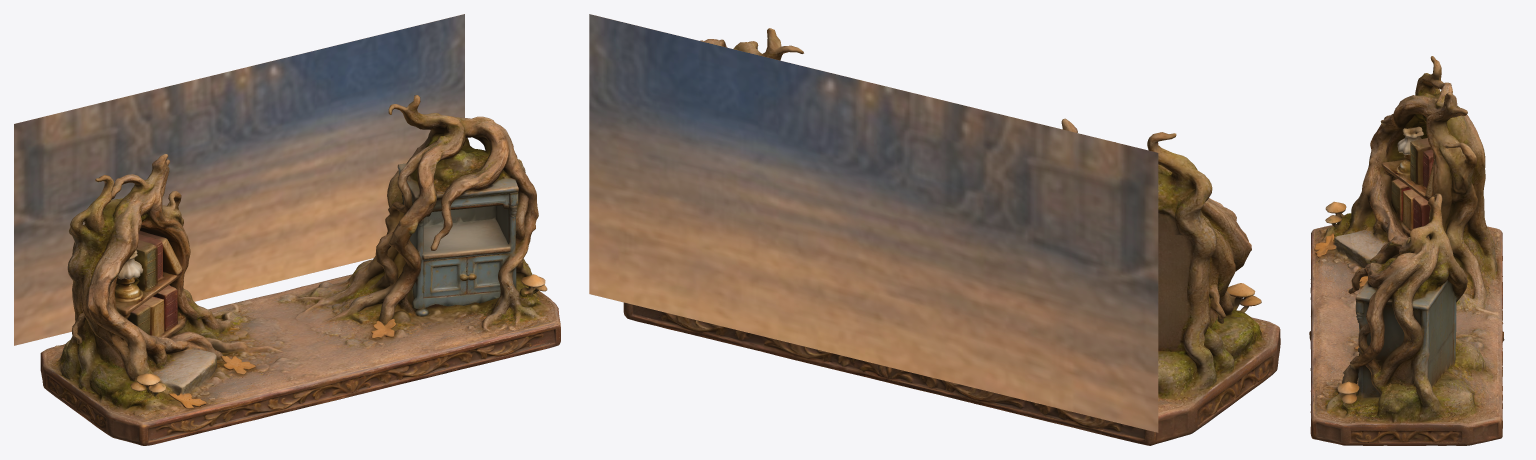
Rendered from burrow-stage.glb.
3 renders of one model, left to right at view 1: azimuth 30°, elevation 25°; view 2: azimuth 150°, elevation 25°; view 3: azimuth 270°, elevation 25°, orthographic. The views are drawn at different scales.
Visible parts, largest first — view 1: tripo_node_27e905fd-fe98-461e-90c4-fc17ada5f182, Scenic flat; view 2: Scenic flat, tripo_node_27e905fd-fe98-461e-90c4-fc17ada5f182; view 3: tripo_node_27e905fd-fe98-461e-90c4-fc17ada5f182.
Part boxes in pixels (x1,y1,x2,y2): tripo_node_27e905fd-fe98-461e-90c4-fc17ada5f182: (40,95,560,445); Scenic flat: (14,14,464,345); Scenic flat: (589,14,1158,432); tripo_node_27e905fd-fe98-461e-90c4-fc17ada5f182: (623,28,1280,445); tripo_node_27e905fd-fe98-461e-90c4-fc17ada5f182: (1309,56,1504,445).
Bounding box in the file's own units: 5.4 × 2.86 × 2.36.
2 materials, 2 textured.
